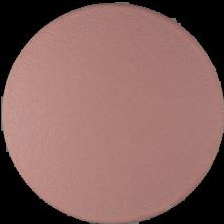49999-992: (0, 0, 224, 224)
